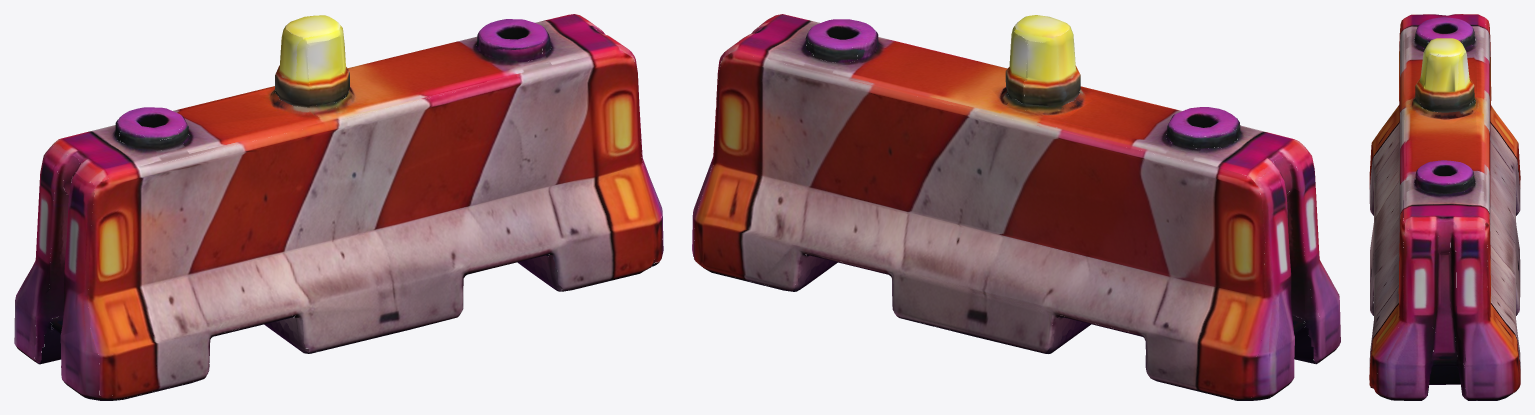
File: h3-water-barrier.glb
3 views of the same model, side by side, from view 1: azimuth 30°, elevation 25°; view 2: azimuth 150°, elevation 25°; view 3: azimuth 270°, elevation 25° (orthographic). The views are drawn at different scales.
Parts seen in each view (by area): view 1: tmpi8ls7kmi.ply; view 2: tmpi8ls7kmi.ply; view 3: tmpi8ls7kmi.ply.
Part boxes in pixels (box(x1,y1,x2,y2)): tmpi8ls7kmi.ply: box(14, 14, 663, 400); tmpi8ls7kmi.ply: box(692, 14, 1340, 400); tmpi8ls7kmi.ply: box(1369, 14, 1520, 400).
Size of the model in its own units: 1.99 by 0.9444 by 0.5542.
Materials: 1 (1 with a texture image).
